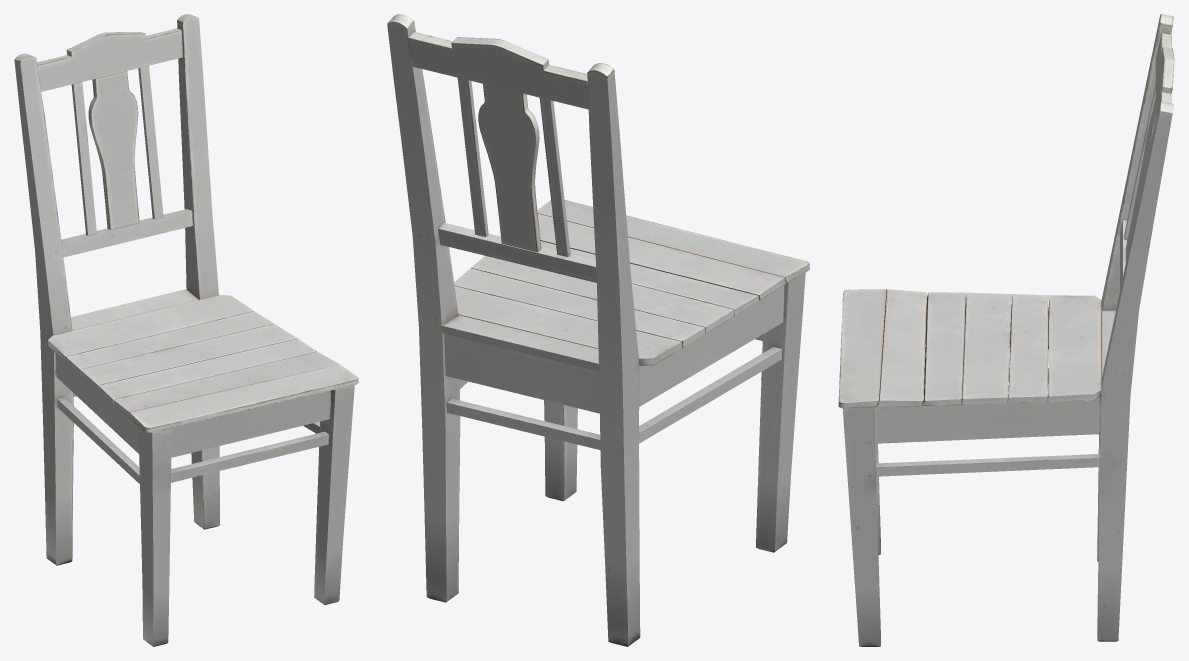
File: chair.glb
The picture shows the model from 3 angles, left to right: view 1: azimuth 30°, elevation 25°; view 2: azimuth 150°, elevation 25°; view 3: azimuth 270°, elevation 25°; orthographic projection. The views are drawn at different scales.
Visible parts, largest first — view 1: painted_wooden_chair_01; view 2: painted_wooden_chair_01; view 3: painted_wooden_chair_01.
Boxes of the visible parts, x1,y1,x2,y2 form: painted_wooden_chair_01: (14,14,358,646); painted_wooden_chair_01: (387,14,809,646); painted_wooden_chair_01: (838,14,1174,646).
Bounding box in the file's own units: 0.4318 × 0.9565 × 0.5398.
1 material, 1 textured.
